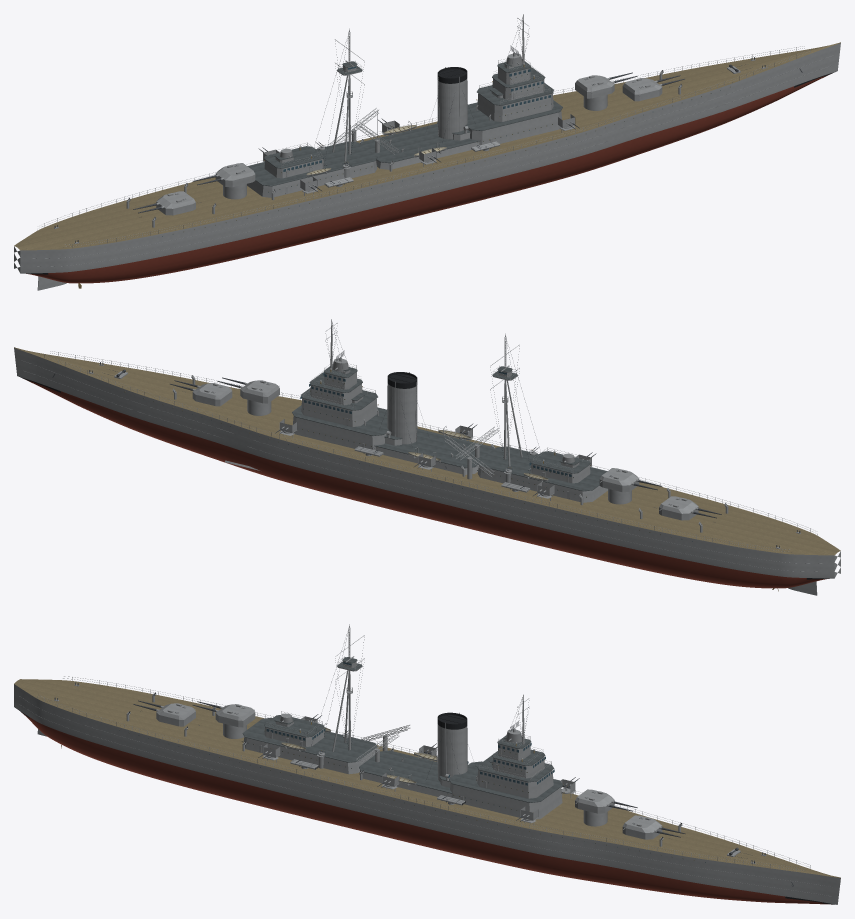
Rendered from demo-prinz-eugen.glb.
The picture shows the model from 3 angles, top to bottom: view 1: azimuth 30°, elevation 25°; view 2: azimuth 150°, elevation 25°; view 3: azimuth 330°, elevation 25°; orthographic projection.
Visible parts, largest first — view 1: Prinz Eugen, 1941 exterior interpretation; view 2: Prinz Eugen, 1941 exterior interpretation; view 3: Prinz Eugen, 1941 exterior interpretation.
Part boxes in pixels (bbox=[...]): Prinz Eugen, 1941 exterior interpretation: bbox=[14, 14, 840, 290]; Prinz Eugen, 1941 exterior interpretation: bbox=[14, 319, 840, 595]; Prinz Eugen, 1941 exterior interpretation: bbox=[14, 624, 840, 904].
Bounding box in the file's own units: 208 × 45.4 × 26.01.
9 materials, 8 textured.
